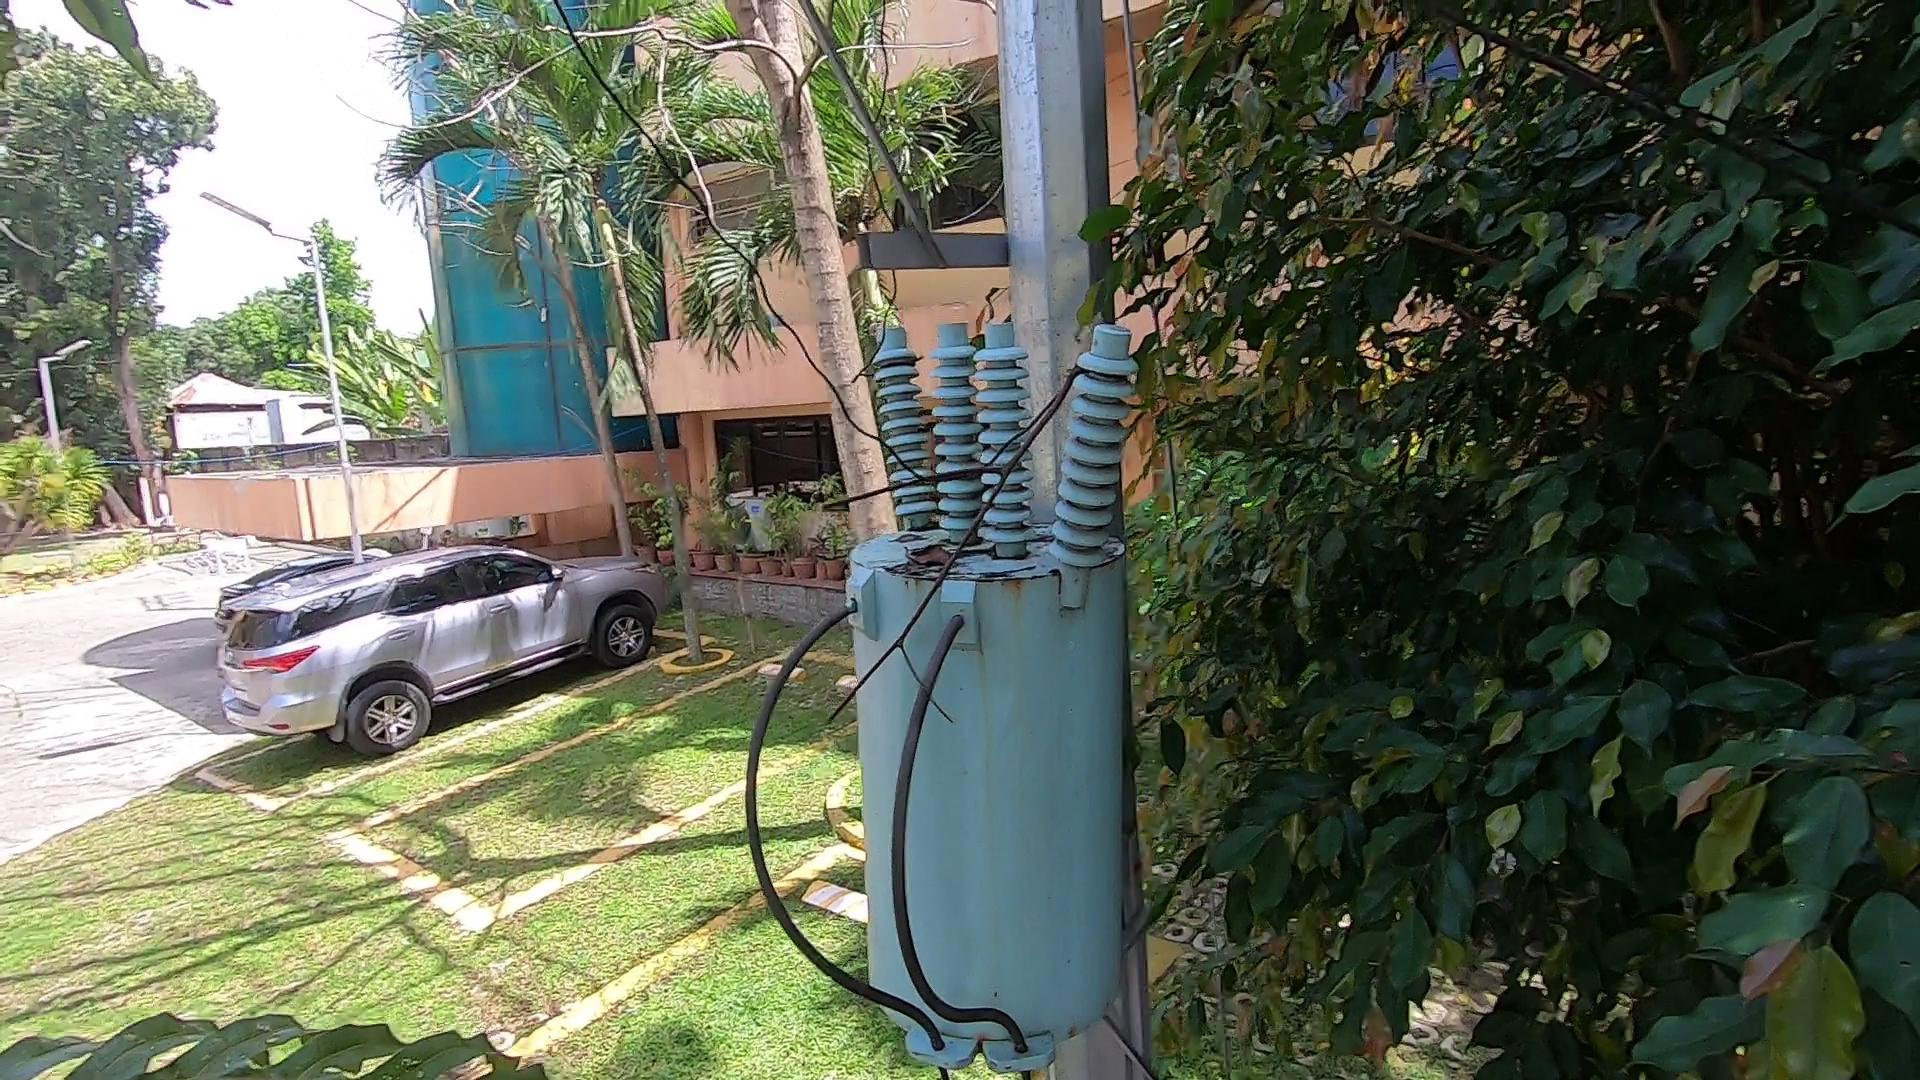leaf: (887, 527, 967, 603)
tree branch: (815, 371, 1120, 748)
